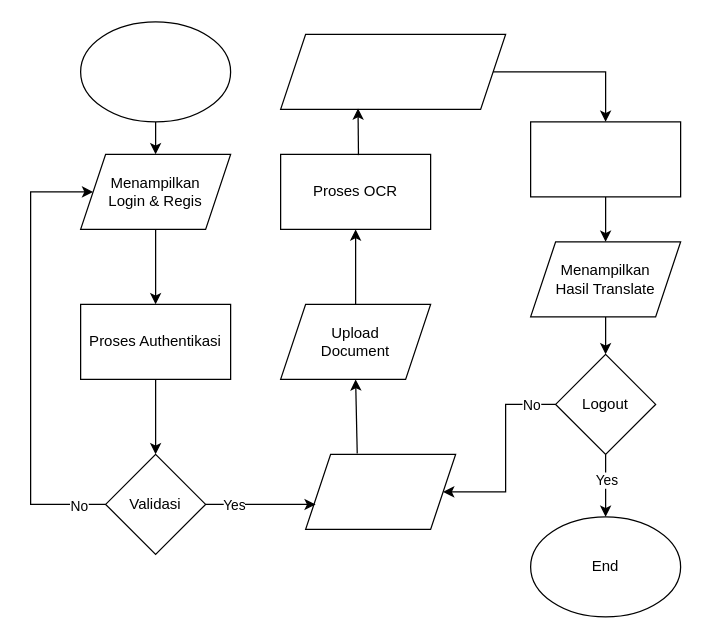
This 703x639 diagram has some shape labels left out. The box of each missing label's shape, as (x1, y1, x2, y2) in pixels:
Akses Halaman Utama: (304, 453, 456, 529)
Menampilkan hasil ocr dan Memilih bahasa target: (279, 33, 506, 109)
Proses Transalate: (529, 121, 681, 197)
Start: (79, 21, 231, 122)
